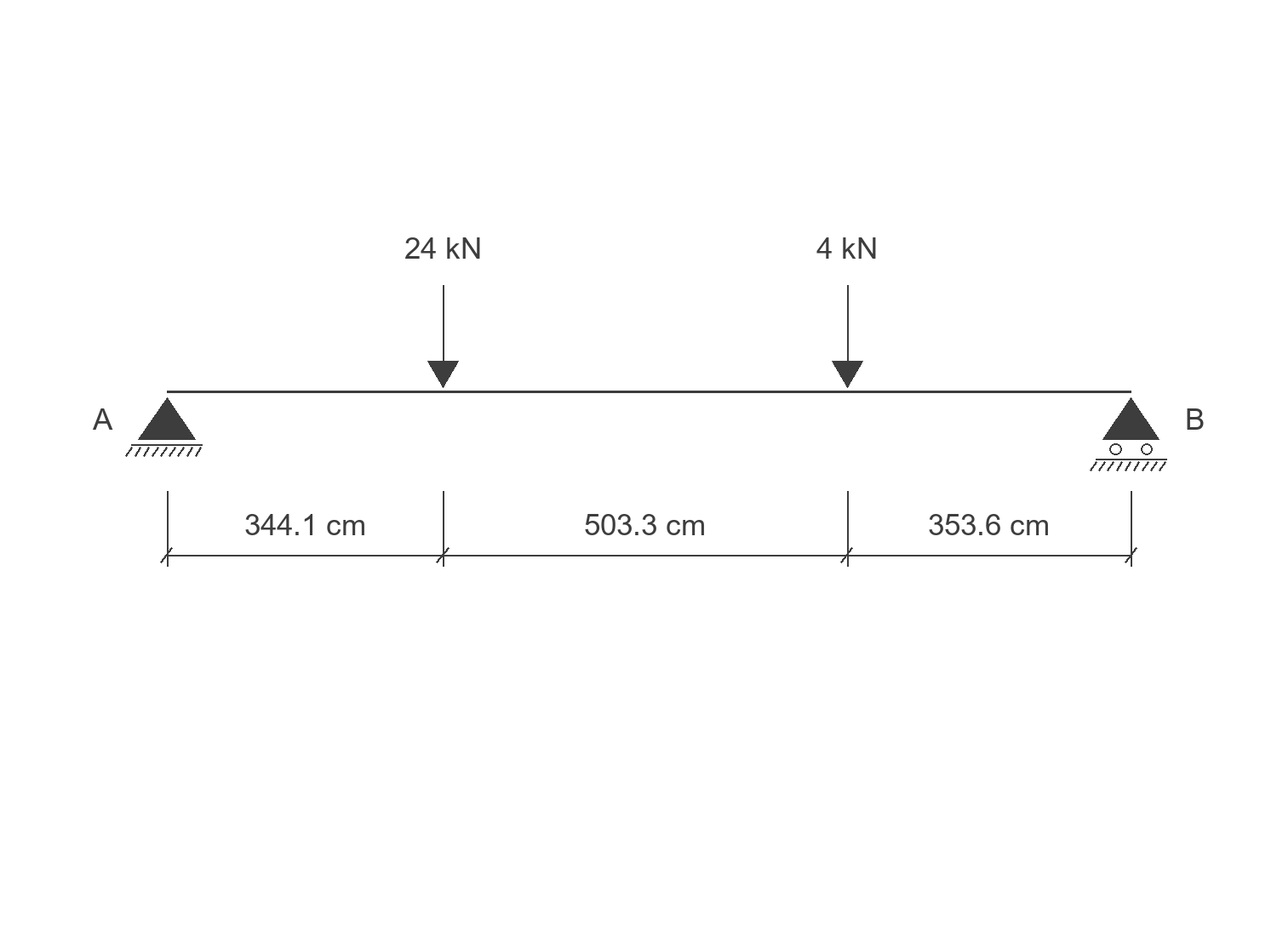pin_support: (125, 397, 203, 457)
point_load: (427, 285, 459, 388), (832, 285, 863, 388)
roller_support: (1090, 397, 1167, 471)
